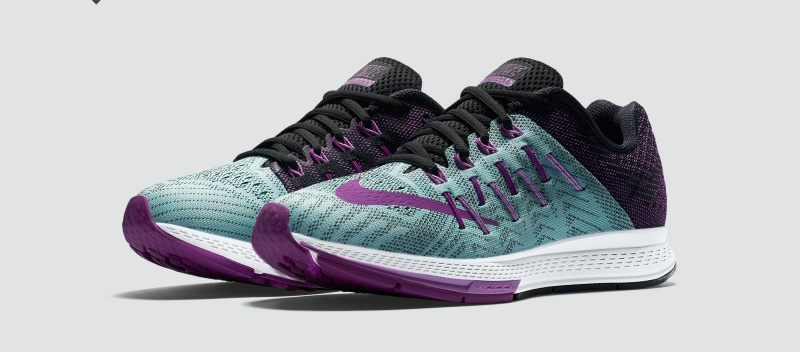nike: (333, 175, 502, 234)
